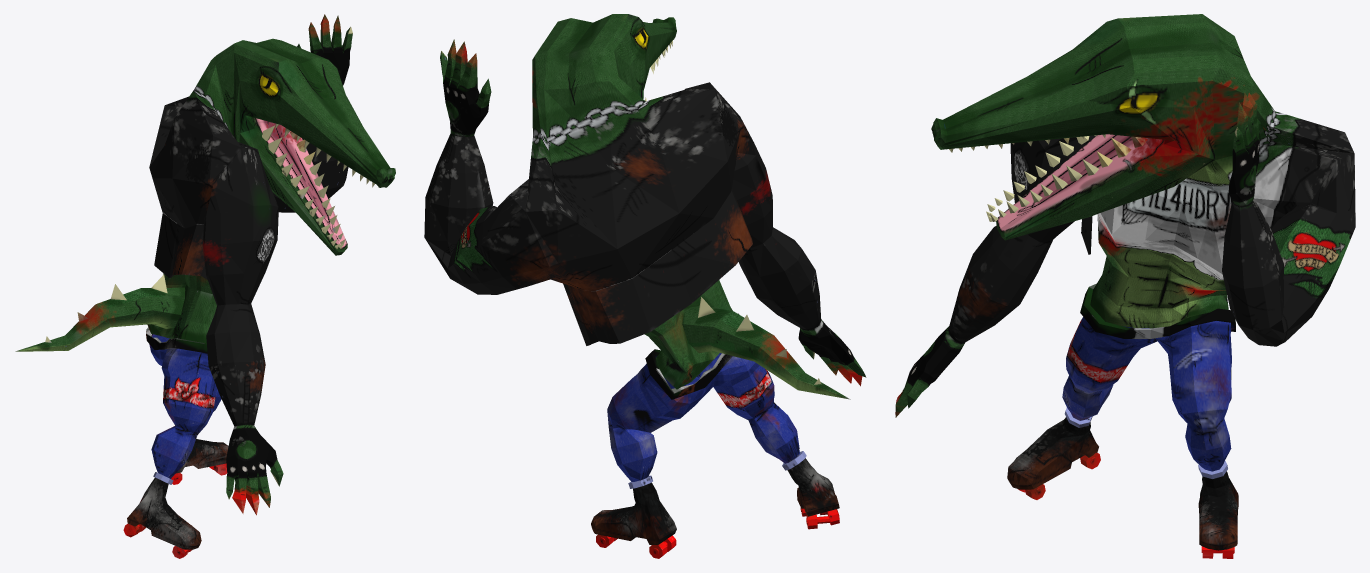
The model's file is cocodrilaBonesSelect_000054.obj.
3 renders of one model, left to right at view 1: azimuth 30°, elevation 25°; view 2: azimuth 150°, elevation 25°; view 3: azimuth 270°, elevation 25°, orthographic. The views are drawn at different scales.
Visible parts, largest first — view 1: Crocodile.002_Cylinder.002; view 2: Crocodile.002_Cylinder.002; view 3: Crocodile.002_Cylinder.002.
Boxes of the visible parts, x1=… form: Crocodile.002_Cylinder.002: x1=15, y1=14, x2=395, y2=558; Crocodile.002_Cylinder.002: x1=424, y1=14, x2=866, y2=558; Crocodile.002_Cylinder.002: x1=895, y1=14, x2=1355, y2=558.
Bounding box in the file's own units: 5.23 × 6.17 × 4.62.
